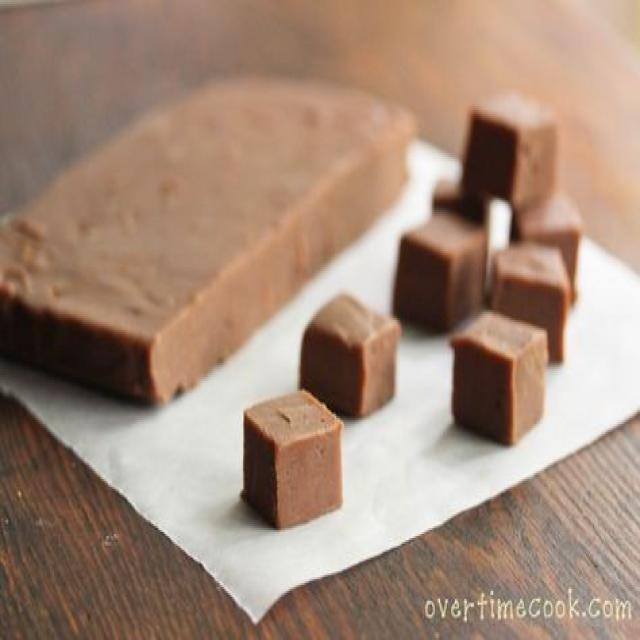Chocolate: (0, 73, 416, 405), (397, 96, 582, 456), (243, 293, 401, 530)
